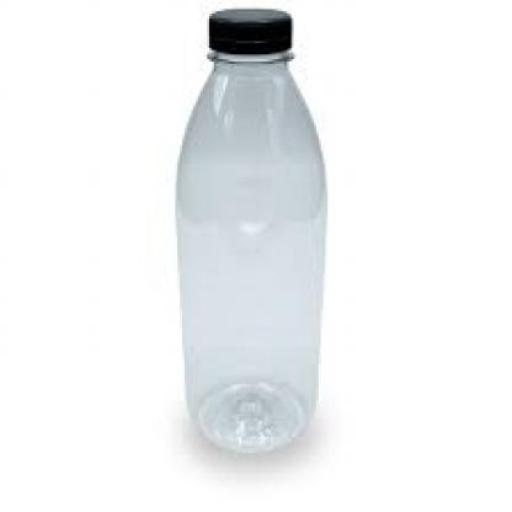plastic: (173, 6, 328, 453), (205, 7, 291, 55)
